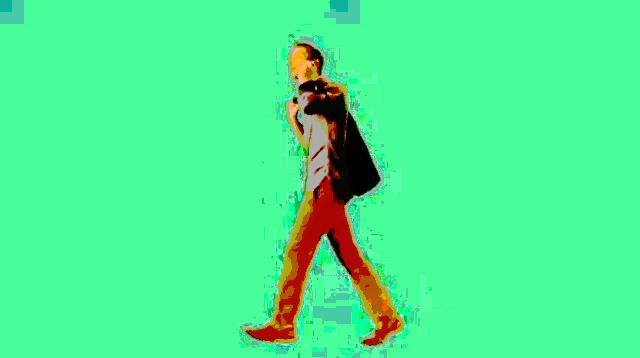berjalan: (244, 40, 406, 348)
